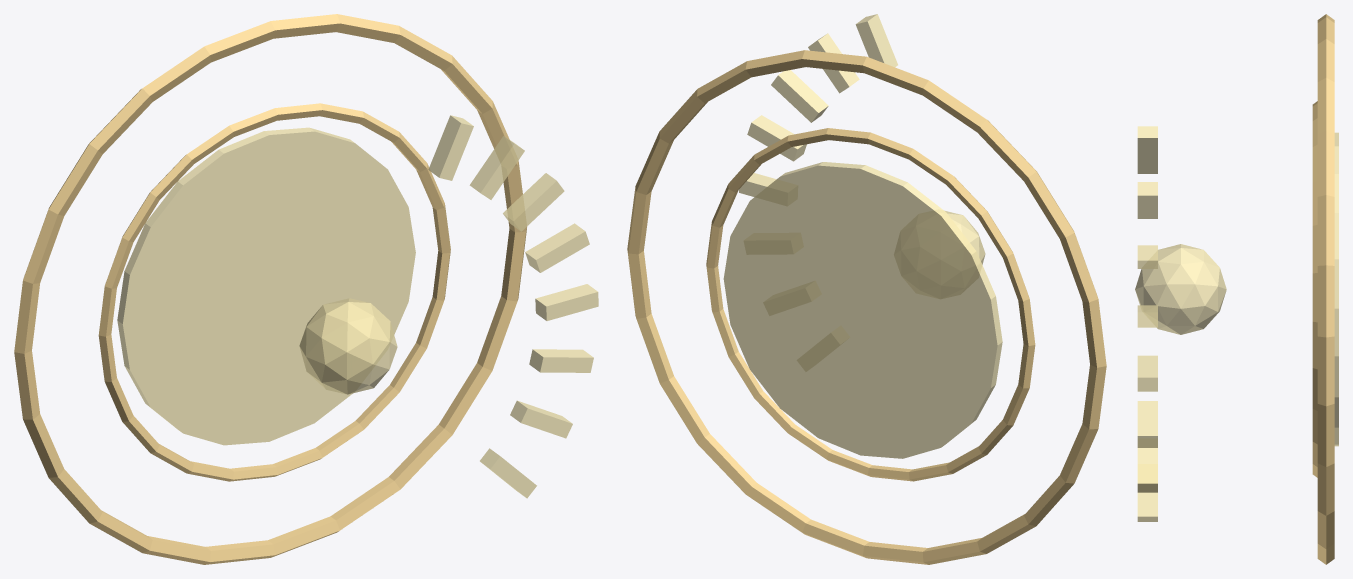
The model's file is 01_class_special_attack_vfx.glb.
3 renders of one model, left to right at view 1: azimuth 30°, elevation 25°; view 2: azimuth 150°, elevation 25°; view 3: azimuth 270°, elevation 25°, orthographic. The views are drawn at different scales.
Visible parts, largest first — view 1: ability_cast_disc, shockwave, ability_outer_ring, class_energy_core, attack_flow_arc_seg_7, attack_flow_arc_seg_5, attack_flow_arc_seg_6, attack_flow_arc_seg_4, attack_flow_arc_seg_3, attack_flow_arc_seg_2, attack_flow_arc_seg_1, attack_flow_arc_seg_0; view 2: ability_cast_disc, shockwave, ability_outer_ring, attack_flow_arc_seg_5, attack_flow_arc_seg_7, attack_flow_arc_seg_4, attack_flow_arc_seg_6, class_energy_core; view 3: shockwave, class_energy_core, ability_outer_ring, ability_cast_disc, attack_flow_arc_seg_7, attack_flow_arc_seg_2, attack_flow_arc_seg_1, attack_flow_arc_seg_6, attack_flow_arc_seg_3, attack_flow_arc_seg_0, attack_flow_arc_seg_5, attack_flow_arc_seg_4.
Boxes of the visible parts, box(x1,y1,x2,y2) form: ability_cast_disc: box(117, 127, 415, 445); shockwave: box(14, 14, 527, 564); ability_outer_ring: box(98, 103, 450, 481); class_energy_core: box(299, 298, 397, 394); attack_flow_arc_seg_7: box(428, 115, 473, 180); attack_flow_arc_seg_5: box(503, 173, 564, 231); attack_flow_arc_seg_6: box(469, 136, 524, 199); attack_flow_arc_seg_4: box(525, 223, 589, 272); attack_flow_arc_seg_3: box(535, 284, 598, 320); attack_flow_arc_seg_2: box(529, 349, 593, 372); attack_flow_arc_seg_1: box(510, 400, 572, 438); attack_flow_arc_seg_0: box(480, 448, 536, 498); ability_cast_disc: box(723, 162, 1002, 458); shockwave: box(627, 50, 1106, 564); ability_outer_ring: box(706, 128, 1035, 481); attack_flow_arc_seg_5: box(771, 70, 828, 122); attack_flow_arc_seg_7: box(855, 14, 897, 67); attack_flow_arc_seg_4: box(747, 115, 806, 161); attack_flow_arc_seg_6: box(808, 33, 859, 93); class_energy_core: box(944, 210, 985, 264); shockwave: box(1317, 14, 1334, 564); class_energy_core: box(1135, 244, 1226, 334); ability_outer_ring: box(1312, 101, 1317, 477); ability_cast_disc: box(1334, 132, 1338, 446); attack_flow_arc_seg_7: box(1137, 126, 1157, 173); attack_flow_arc_seg_2: box(1137, 401, 1157, 447); attack_flow_arc_seg_1: box(1137, 448, 1157, 492); attack_flow_arc_seg_6: box(1137, 182, 1157, 218); attack_flow_arc_seg_3: box(1137, 355, 1157, 391); attack_flow_arc_seg_0: box(1137, 492, 1157, 521); attack_flow_arc_seg_5: box(1137, 245, 1157, 268); attack_flow_arc_seg_4: box(1137, 305, 1157, 327).
Bounding box in the file's own units: 2.17 × 2.17 × 0.8.
